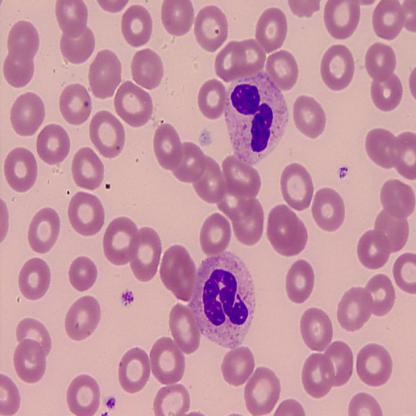Segmented neutrophil: (185, 252, 257, 352), (221, 70, 291, 167)
